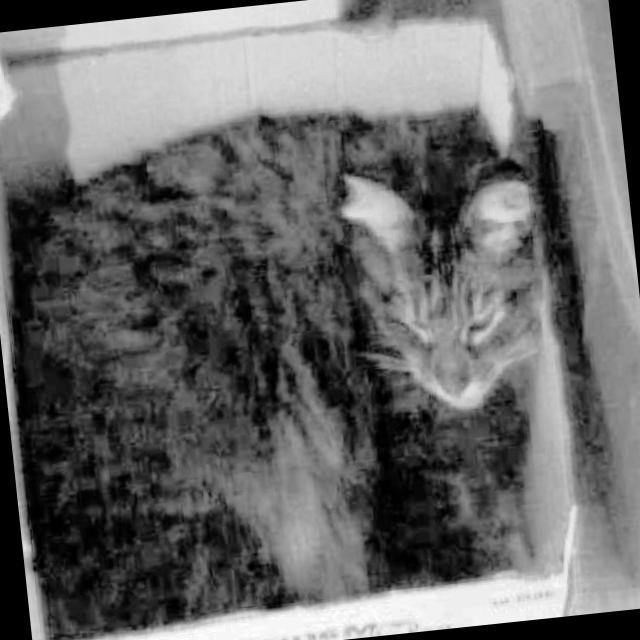Cat: (0, 77, 575, 640)
